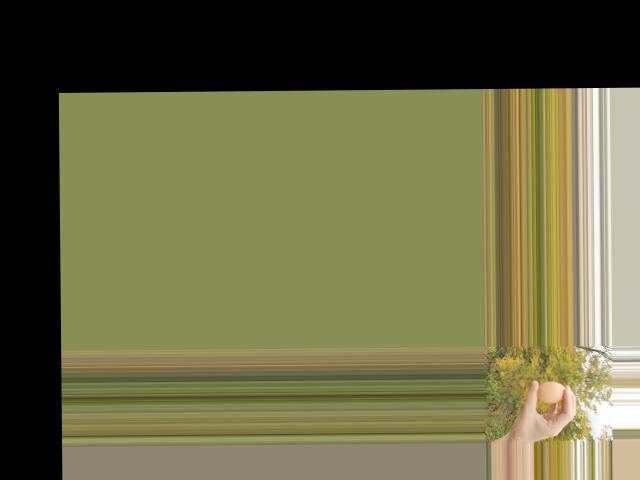egg: (536, 381, 565, 403)
